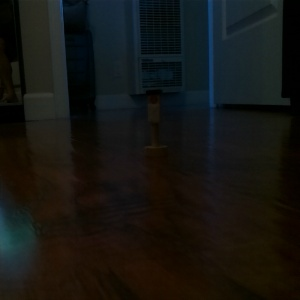traffic light red: (141, 86, 170, 160)
